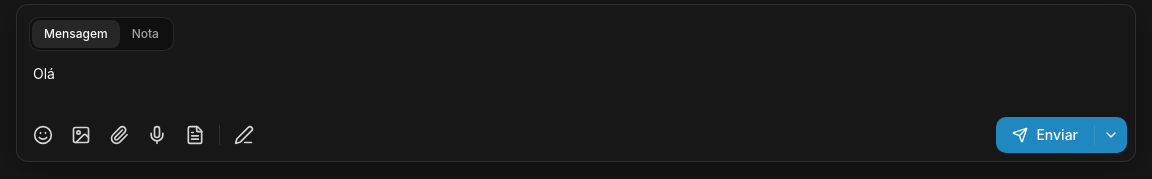
Test case: Composer › envia com um clientMessageId e limpa o campo
This screenshot has width=1152, height=179.
Click the button "Enviar". click: (1045, 135)
box: [996,117,1094,153]
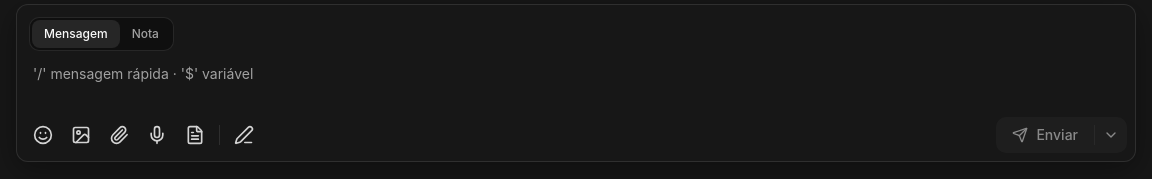
Check: the text box is empty, box [17,51,1135,117]
